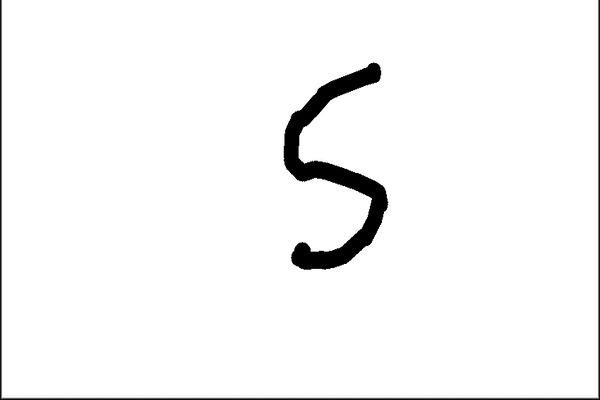S: (275, 59, 392, 275)
